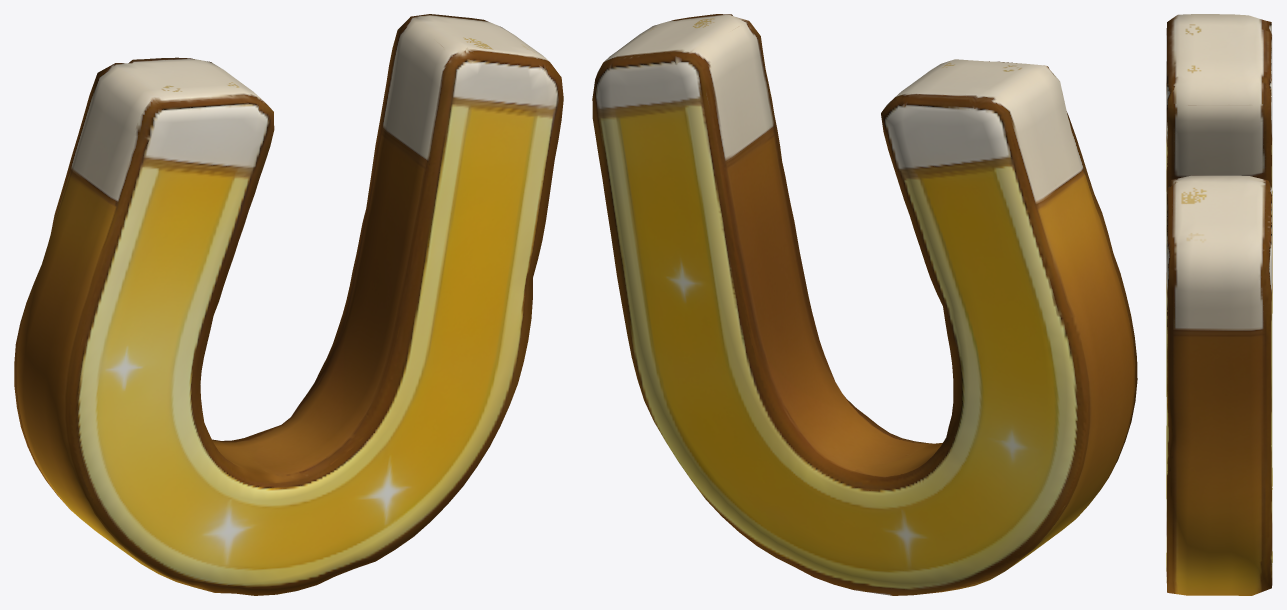
The model's file is Magnet.fbx.
3 views of the same model, side by side, from view 1: azimuth 30°, elevation 25°; view 2: azimuth 150°, elevation 25°; view 3: azimuth 270°, elevation 25° (orthographic). The views are drawn at different scales.
Visible parts, largest first — view 1: RETOPO; view 2: RETOPO; view 3: RETOPO.
Boxes of the visible parts, x1,y1,x2,y2 form: RETOPO: (14, 14, 563, 595); RETOPO: (592, 14, 1137, 595); RETOPO: (1166, 14, 1272, 595).
Size of the model in its own units: 86.16 by 86.68 by 17.
Materials: 1 (1 with a texture image).
